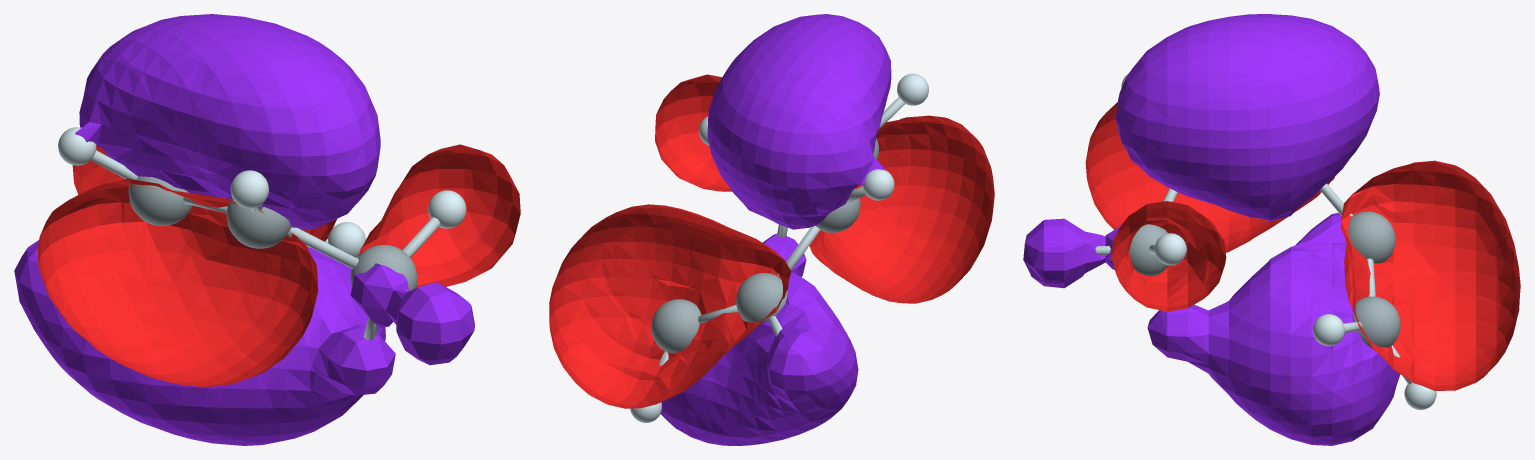
The picture shows the model from 3 angles, left to right: view 1: azimuth 30°, elevation 25°; view 2: azimuth 150°, elevation 25°; view 3: azimuth 270°, elevation 25°; orthographic projection. The views are drawn at different scales.
Visible parts, largest first — view 1: Renderer Node; view 2: Renderer Node; view 3: Renderer Node.
Boxes of the visible parts, box(x1,y1,x2,y2) form: Renderer Node: box(14, 14, 520, 445); Renderer Node: box(549, 14, 994, 445); Renderer Node: box(1023, 14, 1520, 445).
Size of the model in its own units: 4.94 by 5.24 by 6.16.
